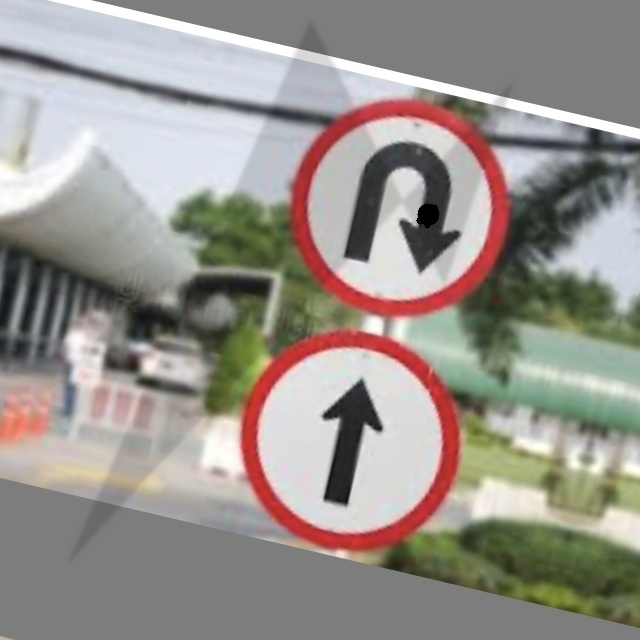U_Turn_Ahead: (275, 82, 531, 327)
